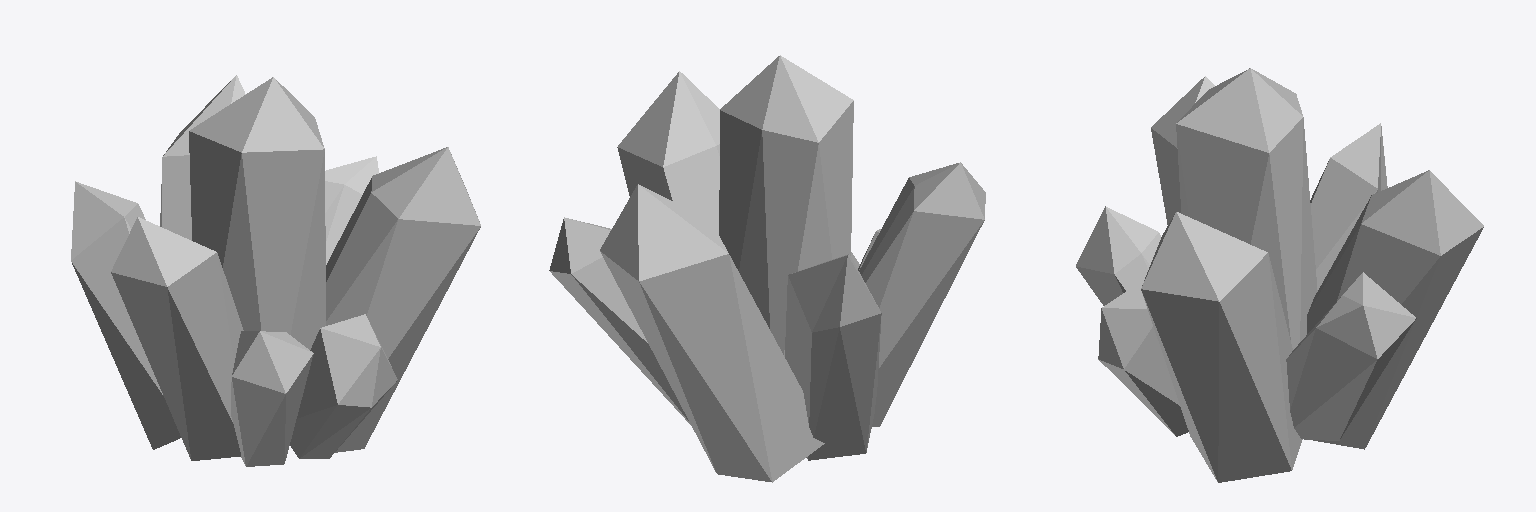
File: purple_crystal_block.obj
The picture shows the model from 3 angles: view 1: azimuth 30°, elevation 25°; view 2: azimuth 150°, elevation 25°; view 3: azimuth 270°, elevation 25°; orthographic projection.
Parts seen in each view (by area): view 1: Icosphere.036_Icosphere.037; view 2: Icosphere.036_Icosphere.037; view 3: Icosphere.036_Icosphere.037.
Boxes of the visible parts, x1=… form: Icosphere.036_Icosphere.037: x1=71, y1=75, x2=480, y2=466; Icosphere.036_Icosphere.037: x1=549, y1=55, x2=985, y2=482; Icosphere.036_Icosphere.037: x1=1076, y1=68, x2=1483, y2=482.
Bounding box in the file's own units: 2.02 × 2.02 × 1.98.